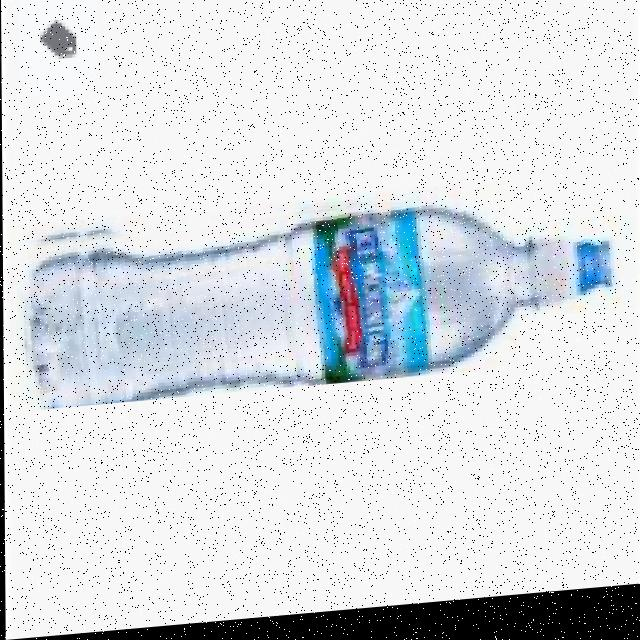plasticbottle: (17, 180, 619, 412)
